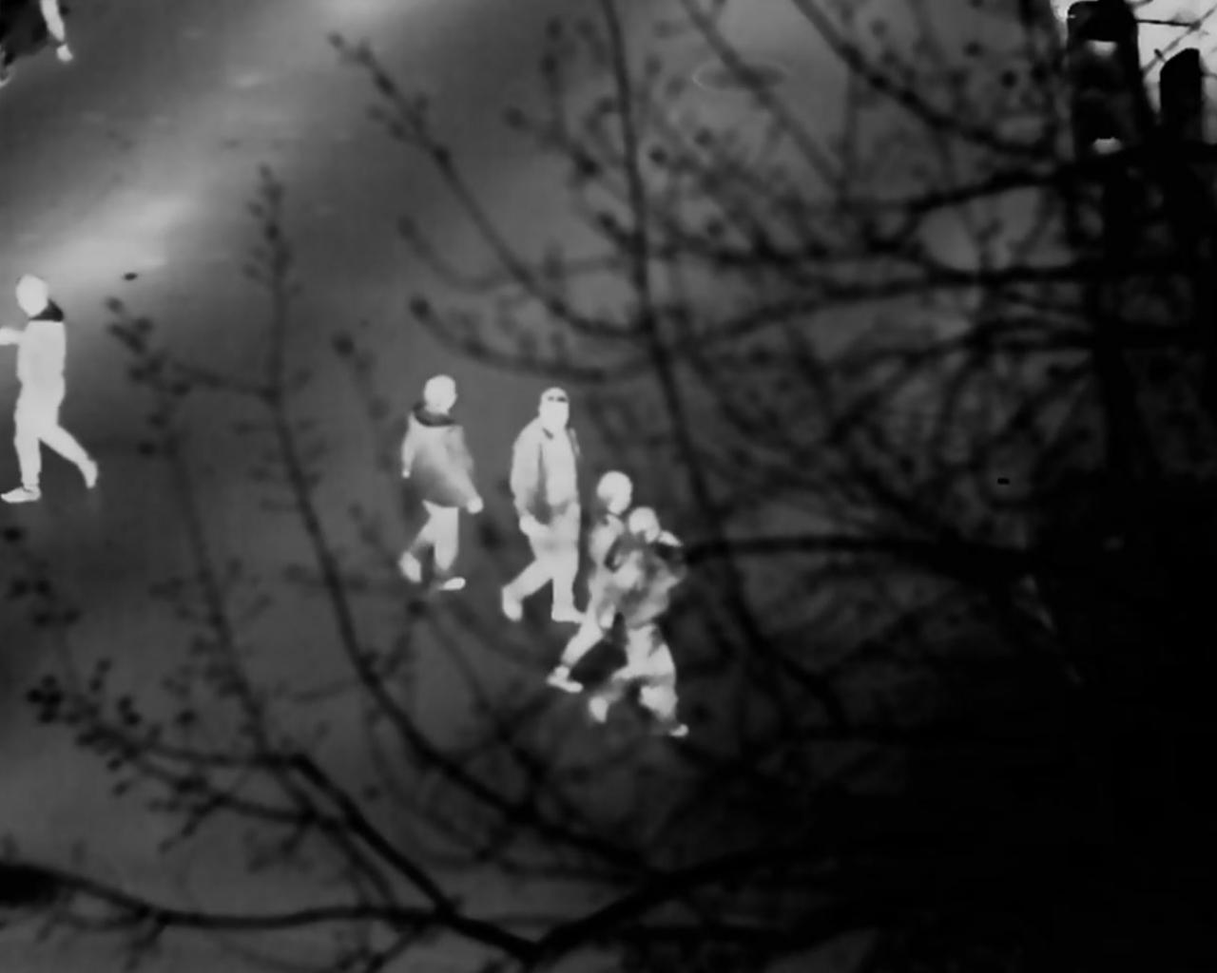person: (591, 508, 689, 737), (551, 468, 638, 701), (394, 373, 486, 592), (503, 385, 588, 619)
